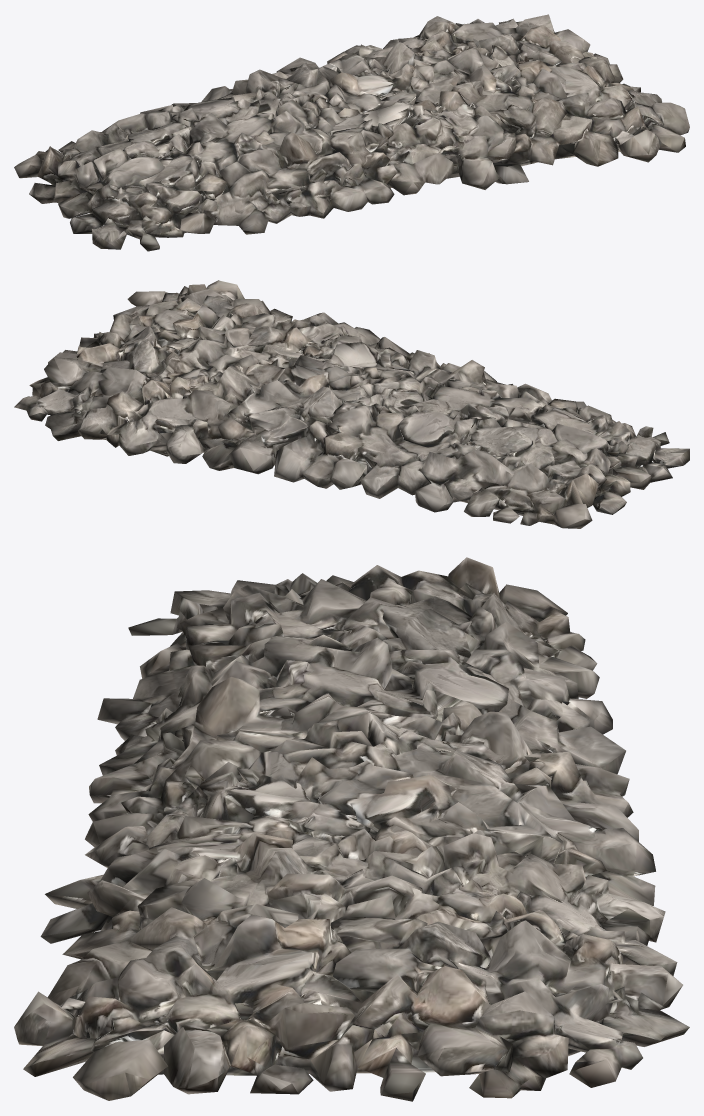
Rendered from bank_a_lod1.glb.
The picture shows the model from 3 angles, top to bottom: view 1: azimuth 30°, elevation 25°; view 2: azimuth 150°, elevation 25°; view 3: azimuth 270°, elevation 25°; orthographic projection. The views are drawn at different scales.
Parts seen in each view (by area): view 1: bank_a_lod1; view 2: bank_a_lod1; view 3: bank_a_lod1.
Part boxes in pixels (x1,y1,x2,y2): bank_a_lod1: (14,14,689,251); bank_a_lod1: (14,280,689,528); bank_a_lod1: (14,557,689,1101).
Bounding box in the file's own units: 20.98 × 2.1 × 11.79.
Materials: 1 (1 with a texture image).
